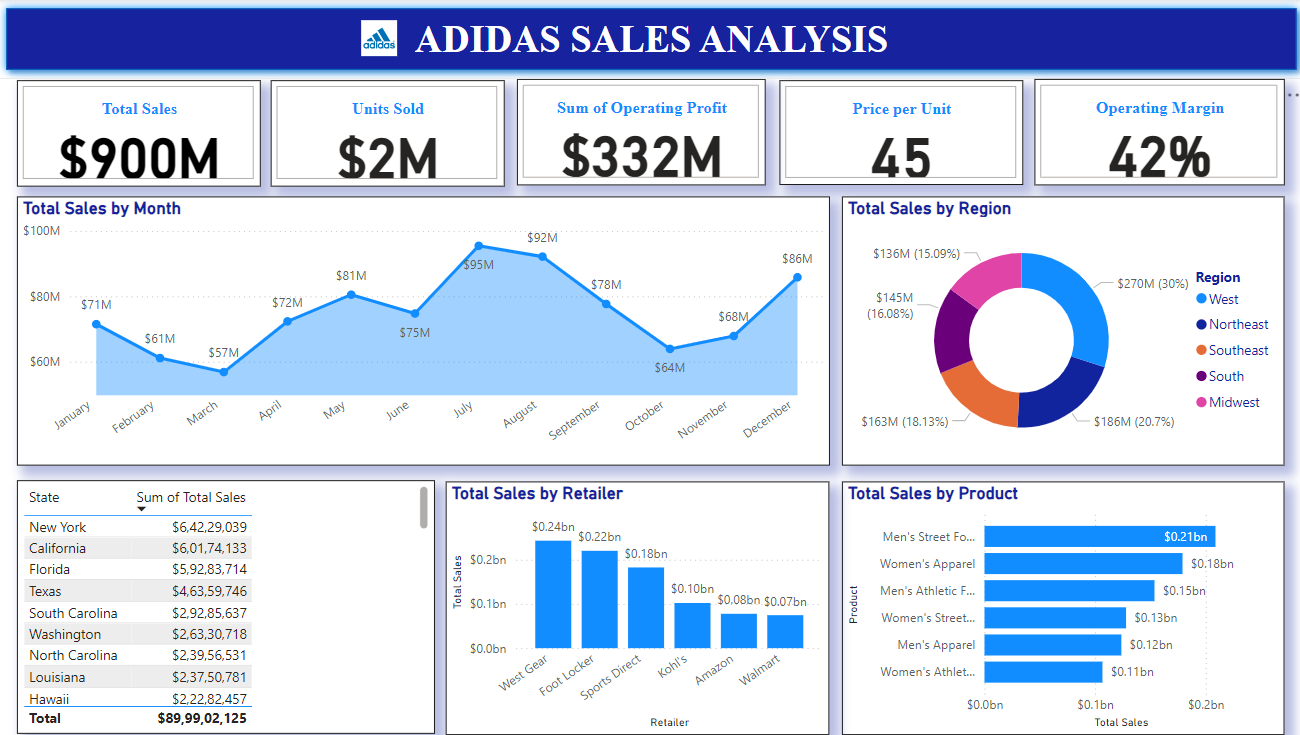

The dashboard page shown, as its layout file describes it:
{"tool":"powerbi","page":{"name":"Page 1","canvas":[1280,720],"ordinal":0},"visuals":[{"type":"cardVisual","fields":{"Data":["Sum(Data Sales Adidas.Total Sales)"]},"box":[19.6,79.5,238.5,103.9],"z":0},{"type":"cardVisual","fields":{"Data":["Sum(Data Sales Adidas.Units Sold)"]},"box":[267.8,79.5,228.7,103.9],"z":1000},{"type":"cardVisual","fields":{"Data":["Avg(Data Sales Adidas.Price per Unit)"]},"box":[765.5,79.5,238.5,102.7],"z":2000},{"type":"cardVisual","fields":{"Data":["Sum(Data Sales Adidas.Operating Profit)"]},"box":[508.7,78.3,243.3,103.9],"z":3000},{"type":"shape","box":[0,0,1280.3,78.3],"z":4000},{"type":"cardVisual","fields":{"Data":["Avg(Data Sales Adidas.Operating Margin)"]},"box":[1015,78.3,244.6,103.9],"z":5000},{"type":"image","box":[333.8,15.9,79.5,45.2],"z":6000},{"type":"lineChart","fields":{"Category":["Data Sales Adidas.Invoice Date.Variation.Date Hierarchy.Month"],"Y":["Sum(Data Sales Adidas.Total Sales)"]},"box":[19.6,193.2,794.8,262.9],"z":7000},{"type":"donutChart","fields":{"Category":["Data Sales Adidas.Region"],"Y":["Sum(Data Sales Adidas.Total Sales)"]},"box":[826.6,193.2,432.9,262.9],"z":8000},{"type":"tableEx","fields":{"Values":["Data Sales Adidas.State","Sum(Data Sales Adidas.Total Sales)"]},"box":[19.6,470.8,408.4,248.2],"z":9000},{"type":"clusteredBarChart","fields":{"Category":["Data Sales Adidas.Product"],"Y":["Sum(Data Sales Adidas.Total Sales)"]},"box":[826.6,472,432.9,248.2],"z":10000},{"type":"clusteredColumnChart","fields":{"Y":["Sum(Data Sales Adidas.Total Sales)"],"Category":["Data Sales Adidas.Retailer"]},"box":[439,472,375.4,248.2],"z":11000}]}

Visuals, with their boxes in screenshot pixels (x1, y1, x2, y2), scaled from the page's 1280x720 canvas onto the 1300x735 screenshot:
cardVisual - Sum(Data Sales Adidas.Total Sales): [left=20, top=81, right=262, bottom=187]
cardVisual - Sum(Data Sales Adidas.Units Sold): [left=272, top=81, right=504, bottom=187]
cardVisual - Avg(Data Sales Adidas.Price per Unit): [left=777, top=81, right=1020, bottom=186]
cardVisual - Sum(Data Sales Adidas.Operating Profit): [left=517, top=80, right=764, bottom=186]
shape: [left=0, top=0, right=1299, bottom=80]
cardVisual - Avg(Data Sales Adidas.Operating Margin): [left=1031, top=80, right=1279, bottom=186]
image: [left=339, top=16, right=420, bottom=62]
lineChart - Data Sales Adidas.Invoice Date.Variation.Date Hierarchy.Month x Sum(Data Sales Adidas.Total Sales): [left=20, top=197, right=827, bottom=466]
donutChart - Data Sales Adidas.Region x Sum(Data Sales Adidas.Total Sales): [left=840, top=197, right=1279, bottom=466]
tableEx - Data Sales Adidas.State x Sum(Data Sales Adidas.Total Sales): [left=20, top=481, right=435, bottom=734]
clusteredBarChart - Data Sales Adidas.Product x Sum(Data Sales Adidas.Total Sales): [left=840, top=482, right=1279, bottom=734]
clusteredColumnChart - Sum(Data Sales Adidas.Total Sales) x Data Sales Adidas.Retailer: [left=446, top=482, right=827, bottom=734]
